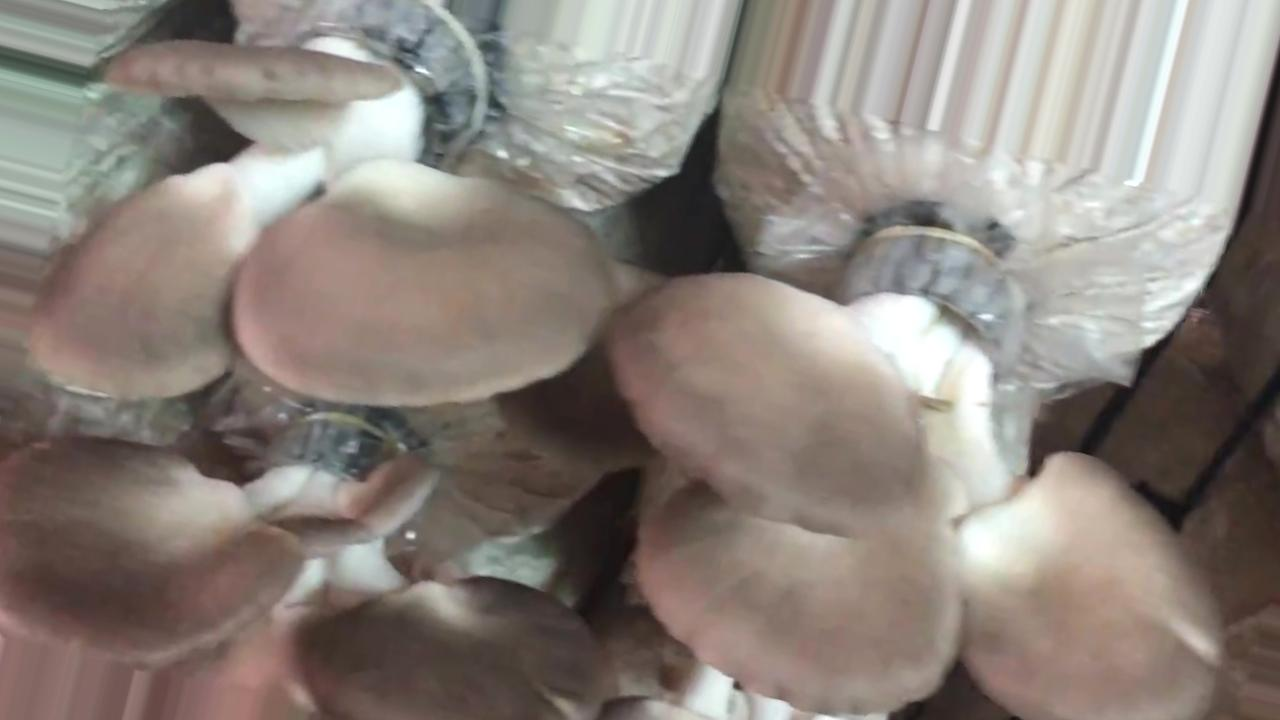nam: (616, 234, 1217, 720), (34, 1, 609, 400), (1, 409, 595, 717)
